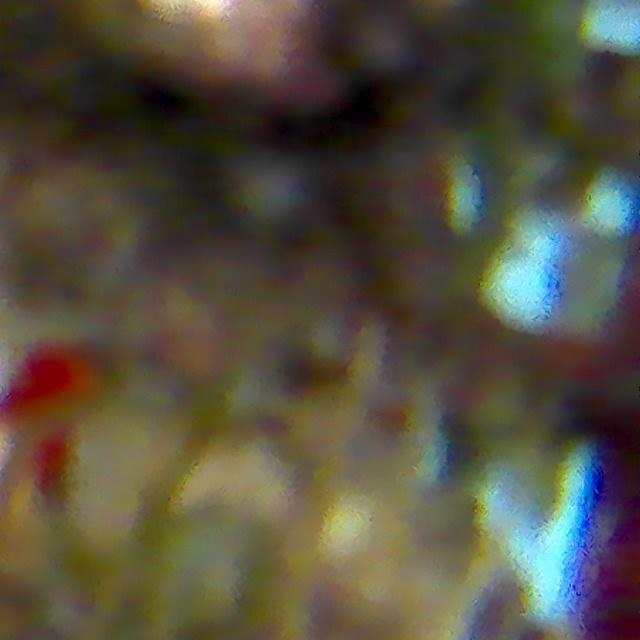SeaGrape: (229, 151, 314, 232), (347, 12, 417, 81)
